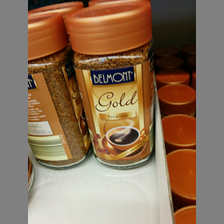coffee: (65, 2, 155, 170), (28, 12, 89, 168)
